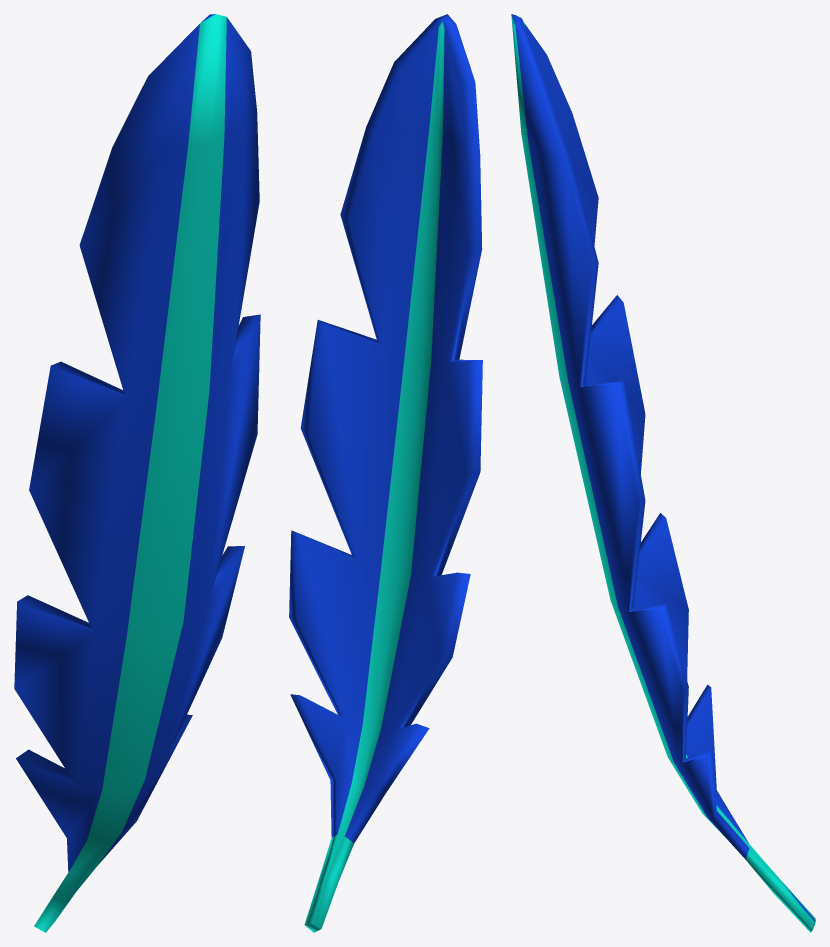
The model's file is lightweight.glb.
The picture shows the model from 3 angles, left to right: view 1: azimuth 30°, elevation 25°; view 2: azimuth 150°, elevation 25°; view 3: azimuth 270°, elevation 25°; orthographic projection. The views are drawn at different scales.
Parts seen in each view (by area): view 1: Strandtype.002; view 2: Strandtype.002; view 3: Strandtype.002.
Part boxes in pixels (bbox=[...]): Strandtype.002: bbox=[14, 14, 260, 932]; Strandtype.002: bbox=[289, 14, 482, 932]; Strandtype.002: bbox=[511, 14, 815, 932].
Bounding box in the file's own units: 0.389 × 1.7 × 0.5095.
